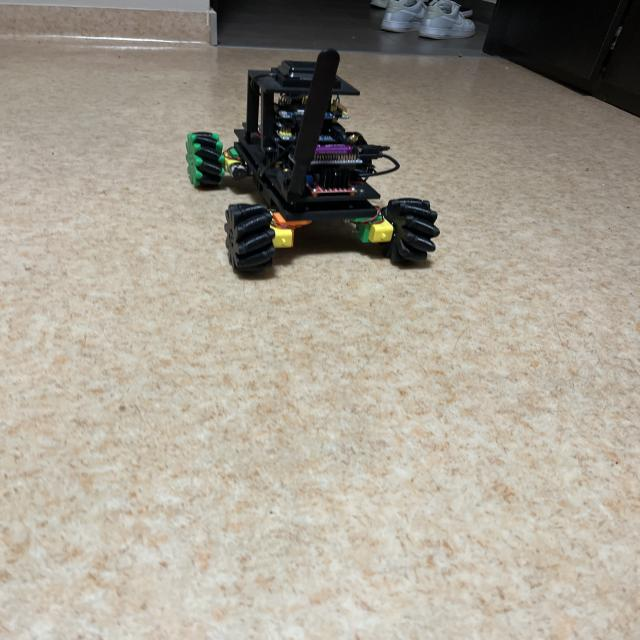robot: (186, 49, 439, 271)
